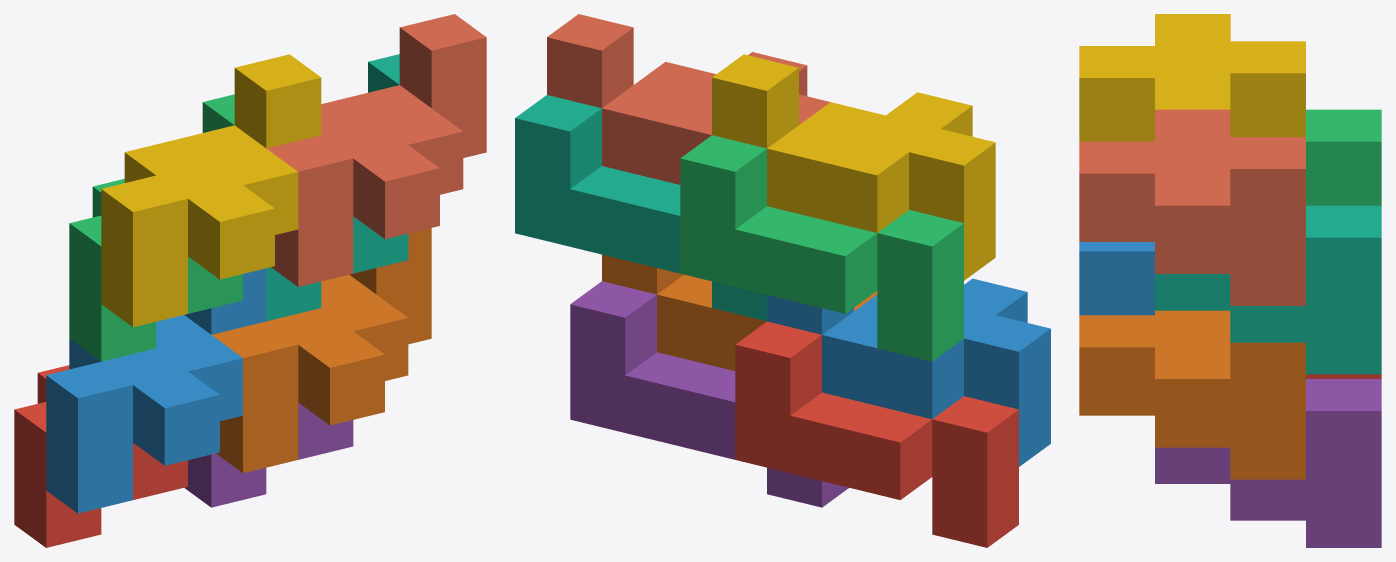
The model's file is tiling.obj.
3 renders of one model, left to right at view 1: azimuth 30°, elevation 25°; view 2: azimuth 150°, elevation 25°; view 3: azimuth 270°, elevation 25°, orthographic. The views are drawn at different scales.
Visible parts, largest first — view 1: copy_1_domain_4, copy_1_domain_8, copy_1_domain_2, copy_1_domain_6, copy_1_domain_3, copy_1_domain_1, copy_1_domain_7, copy_1_domain_5; view 2: copy_1_domain_3, copy_1_domain_1, copy_1_domain_4, copy_1_domain_2, copy_1_domain_5, copy_1_domain_7, copy_1_domain_8, copy_1_domain_6; view 3: copy_1_domain_8, copy_1_domain_6, copy_1_domain_4, copy_1_domain_5, copy_1_domain_7, copy_1_domain_3, copy_1_domain_2, copy_1_domain_1.
Boxes of the visible parts, left/top/right/bottom form: copy_1_domain_4: left=101, top=54, right=321, bottom=327; copy_1_domain_8: left=266, top=14, right=486, bottom=286; copy_1_domain_2: left=46, top=268, right=266, bottom=513; copy_1_domain_6: left=211, top=228, right=431, bottom=473; copy_1_domain_3: left=69, top=94, right=242, bottom=361; copy_1_domain_1: left=14, top=365, right=187, bottom=547; copy_1_domain_7: left=266, top=54, right=408, bottom=321; copy_1_domain_5: left=184, top=402, right=353, bottom=507; copy_1_domain_3: left=680, top=135, right=963, bottom=361; copy_1_domain_1: left=735, top=321, right=1018, bottom=547; copy_1_domain_4: left=712, top=54, right=995, bottom=280; copy_1_domain_2: left=767, top=278, right=1050, bottom=466; copy_1_domain_5: left=570, top=281, right=848, bottom=507; copy_1_domain_7: left=515, top=95, right=766, bottom=321; copy_1_domain_8: left=547, top=14, right=830, bottom=184; copy_1_domain_6: left=602, top=254, right=877, bottom=370; copy_1_domain_8: left=1079, top=109, right=1305, bottom=305; copy_1_domain_6: left=1079, top=310, right=1305, bottom=479; copy_1_domain_4: left=1079, top=14, right=1305, bottom=141; copy_1_domain_5: left=1155, top=379, right=1381, bottom=547; copy_1_domain_7: left=1155, top=205, right=1381, bottom=374; copy_1_domain_3: left=1306, top=109, right=1381, bottom=205; copy_1_domain_2: left=1079, top=242, right=1154, bottom=315; copy_1_domain_1: left=1306, top=374, right=1381, bottom=378.
Size of the model in its own units: 8 by 7 by 4.
